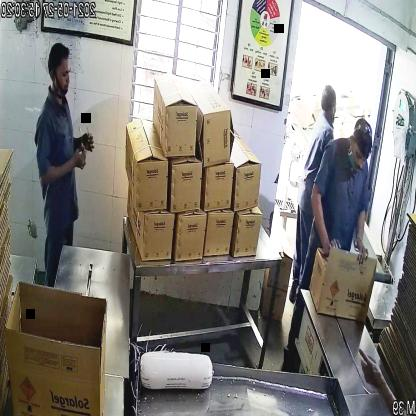no_goggles: (50, 59, 76, 87)
